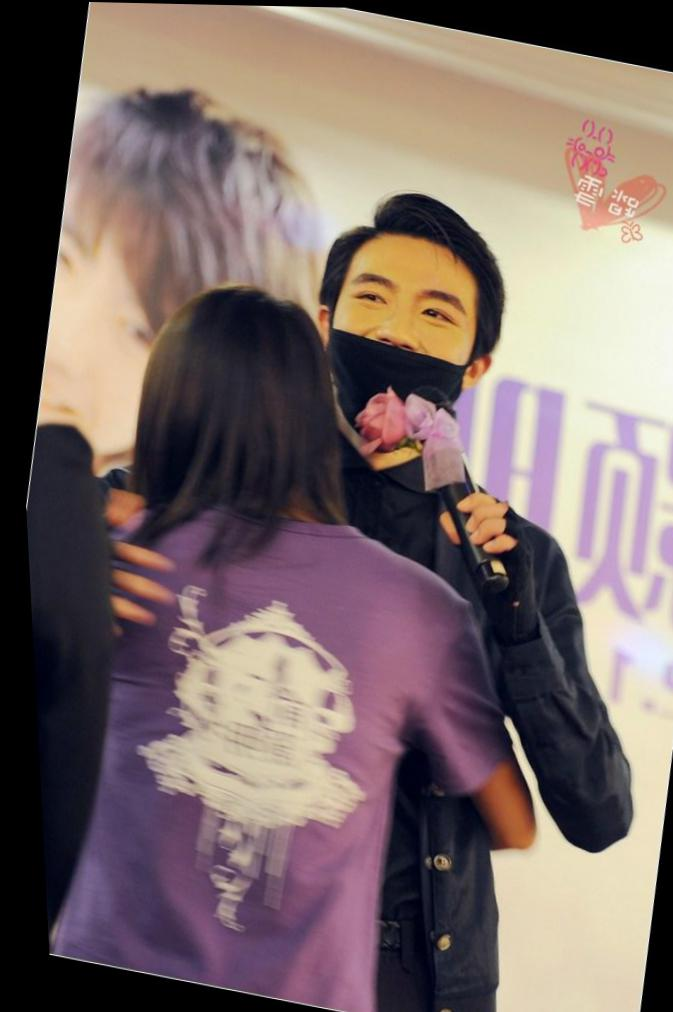WRONG: (310, 255, 483, 427)
